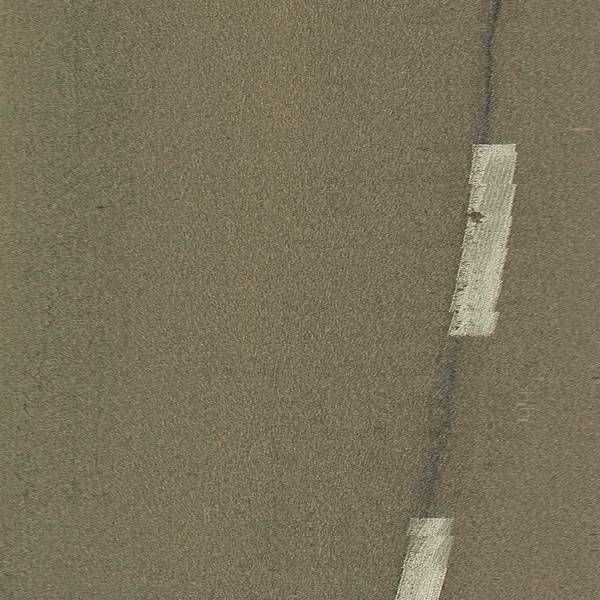road_damage: (415, 335, 465, 520), (470, 1, 503, 142)
